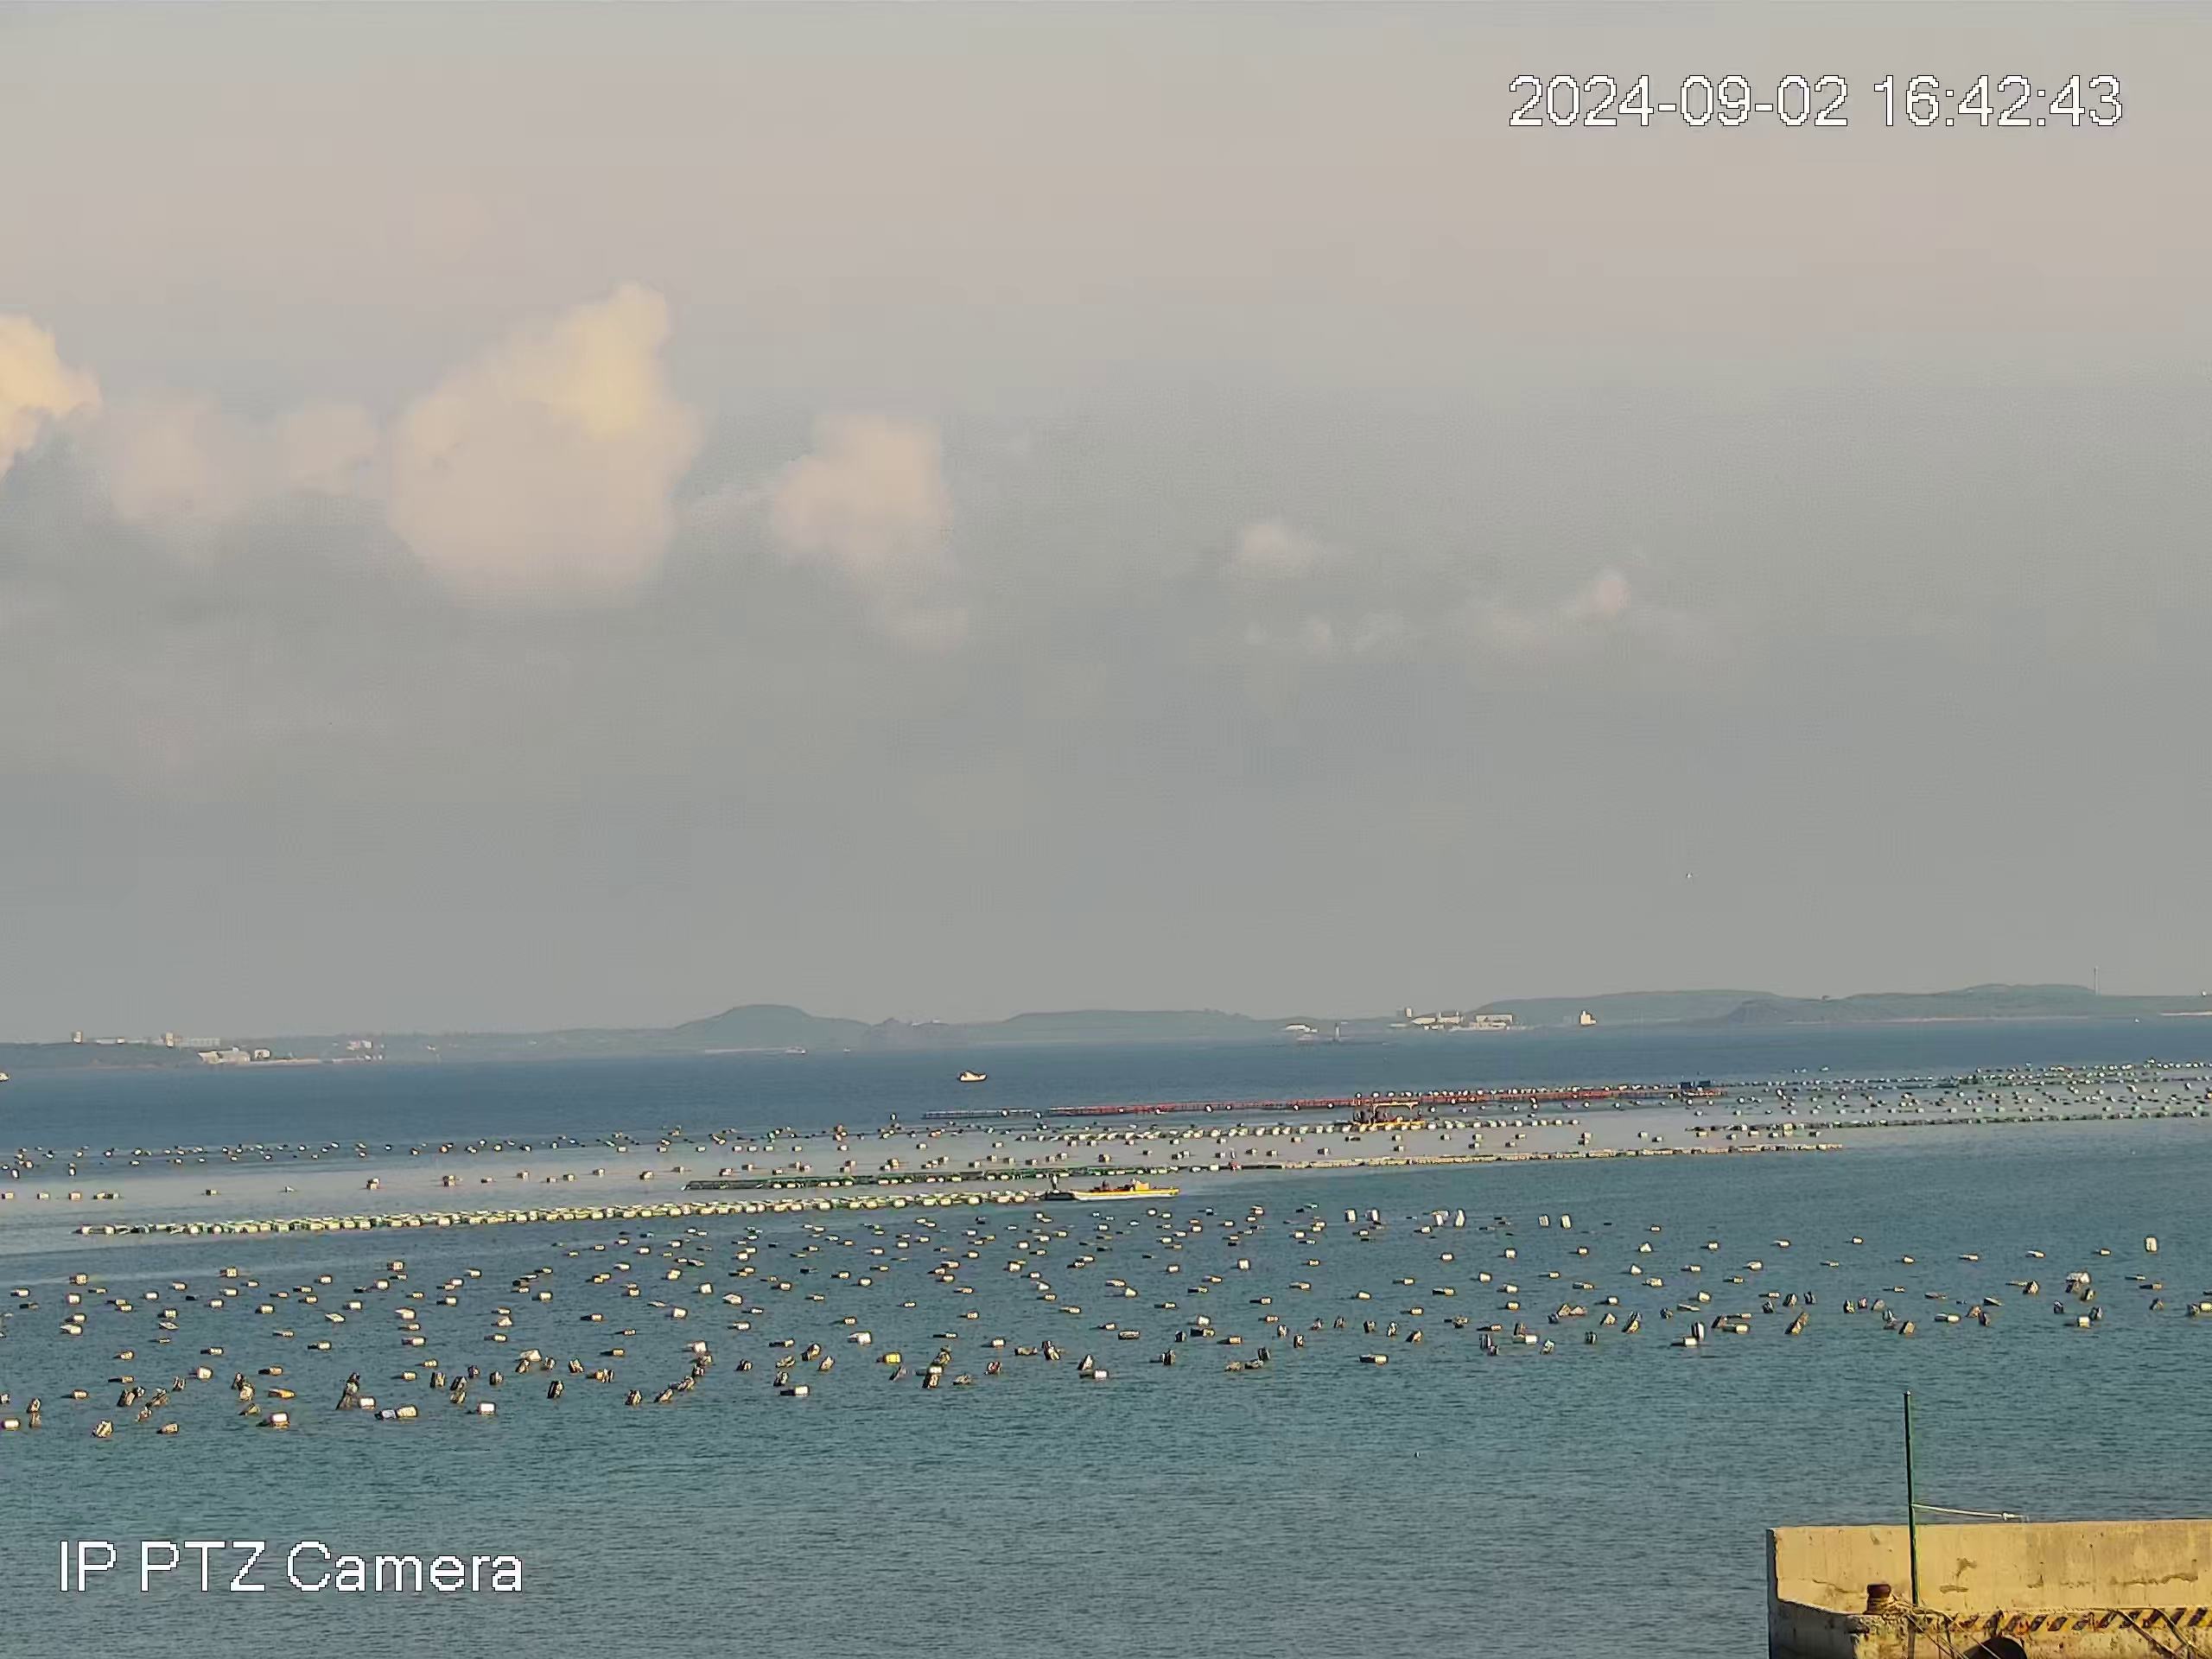boat: (1036, 1169, 1179, 1201), (1346, 1101, 1426, 1127), (958, 1068, 989, 1084)
